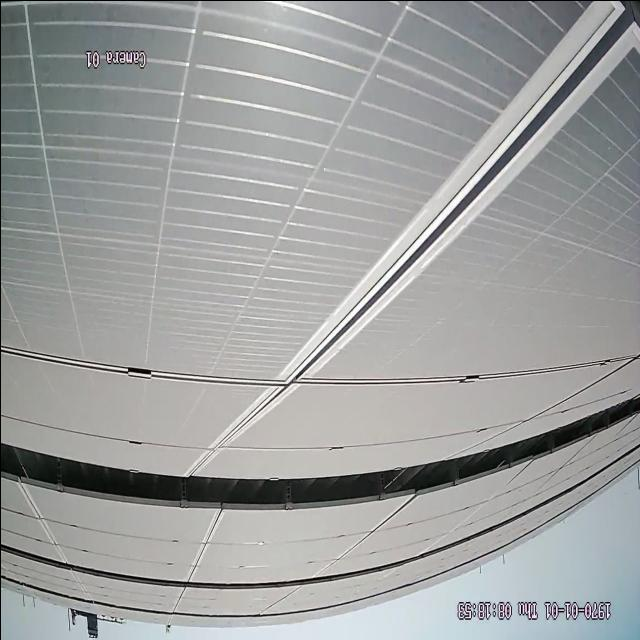interior panel: (0, 7, 629, 468), (316, 506, 406, 569), (14, 491, 69, 559), (185, 511, 223, 579)
outher panel: (2, 393, 639, 511)
